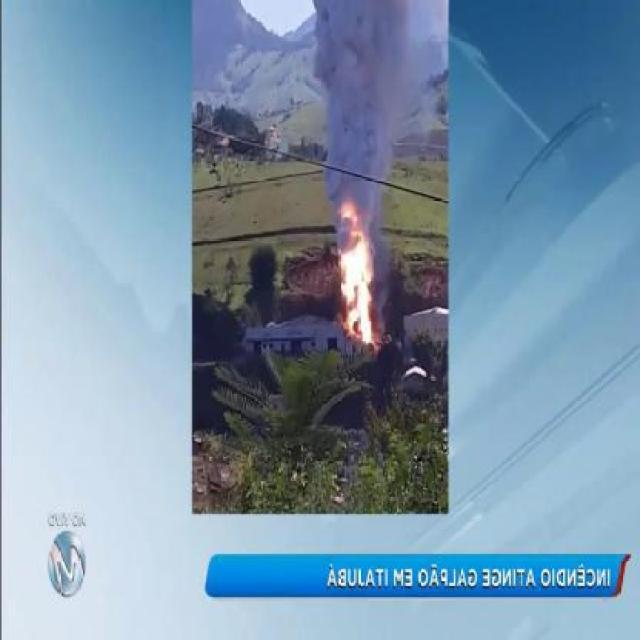Fire: (332, 191, 385, 352), (346, 253, 371, 284), (358, 287, 370, 313)
Smoke: (313, 0, 404, 198)
